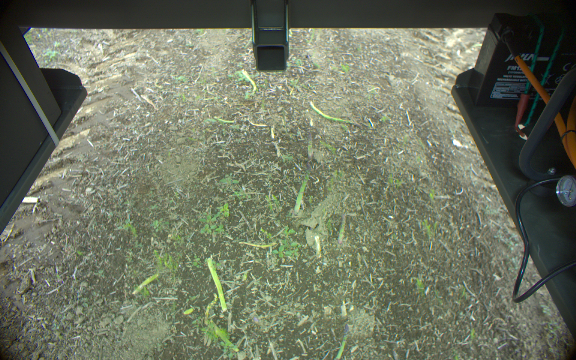aspa: (309, 99, 362, 129), (204, 257, 228, 313), (291, 160, 313, 216), (327, 321, 352, 360), (333, 213, 349, 245), (303, 127, 317, 163), (241, 66, 257, 93)
